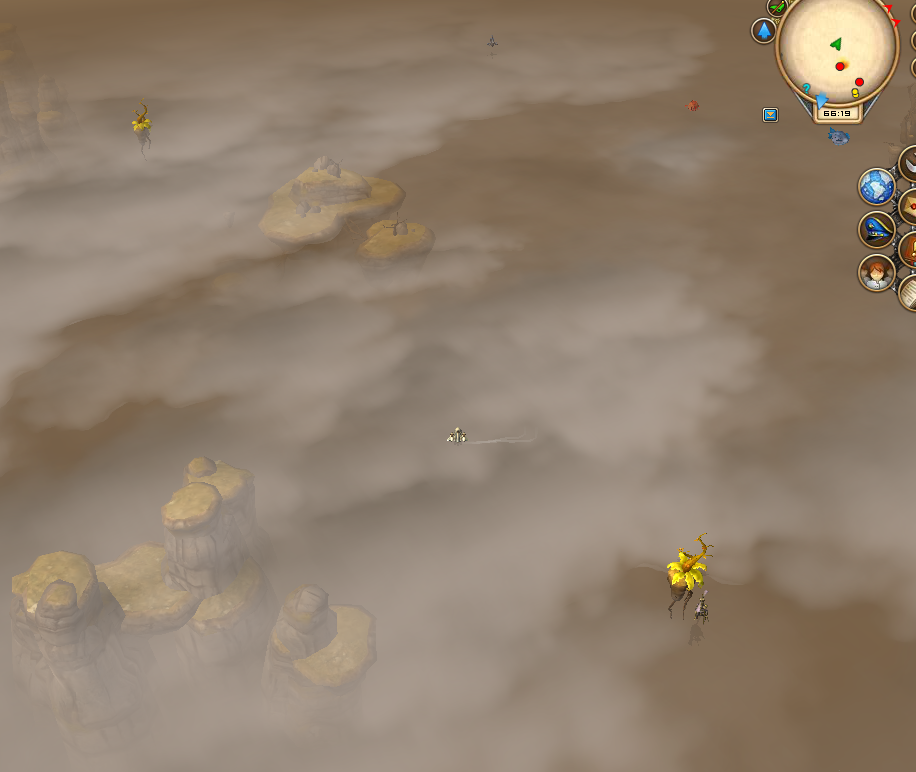dandelion-empty: (656, 524, 718, 620), (126, 95, 158, 154)
